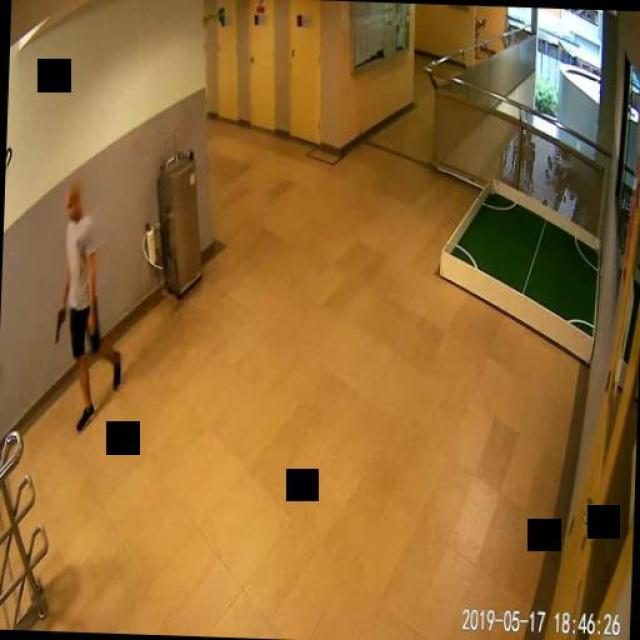gun: (54, 302, 65, 342)
